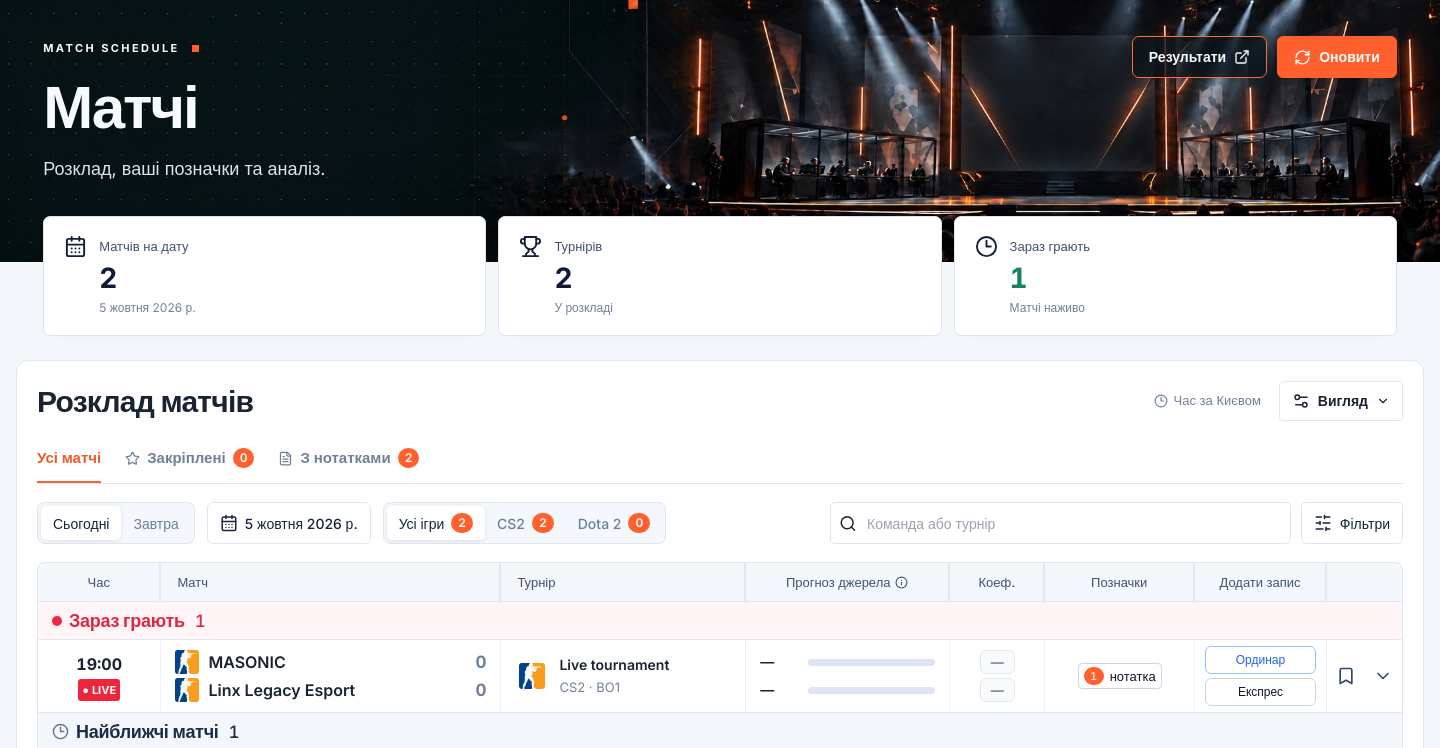
Test: compact schedule controls › renders three arena-header cards using the selected day's real data
expect the heading "Матчі" is shown: met, box [43,70,198,142]
Click the button "Завтра": (156, 524) [122,506,191,540]
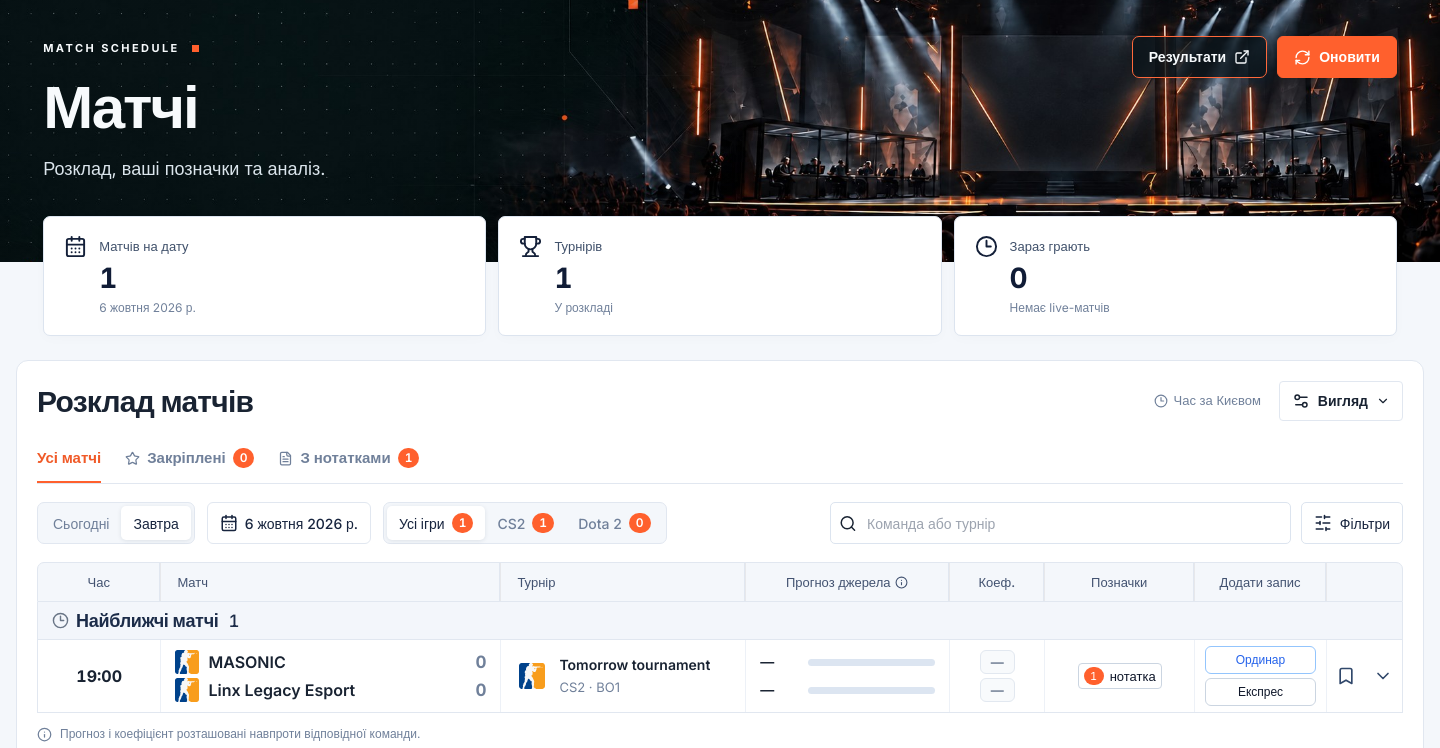
expect the header with class "msc-arena-hero" shows "Немає live-матчів": met, box [1010,300,1110,315]
